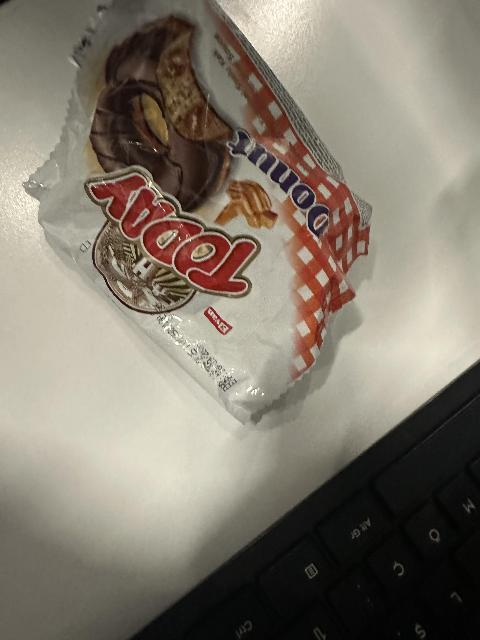Plastik: (22, 6, 367, 417)
